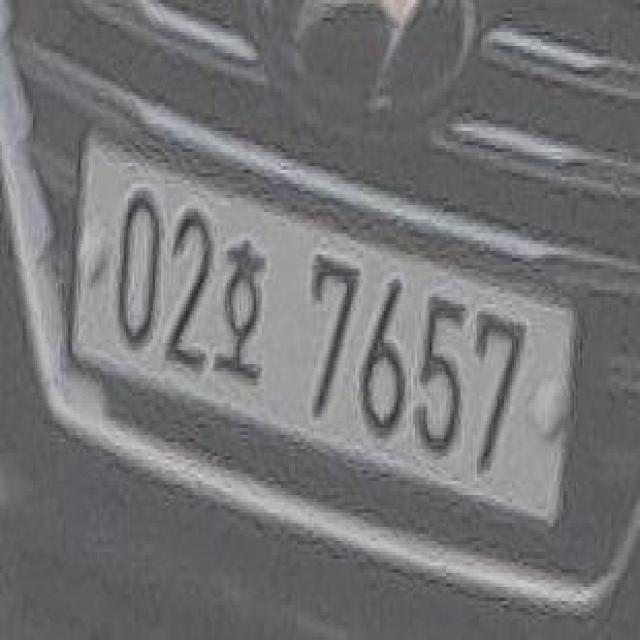illegal_plate: (75, 134, 578, 541)
